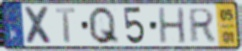5: (122, 6, 146, 45)
H: (157, 6, 188, 45)
Q: (87, 5, 121, 46)
R: (189, 7, 217, 45)
T: (54, 7, 78, 45)
X: (22, 5, 56, 46)
